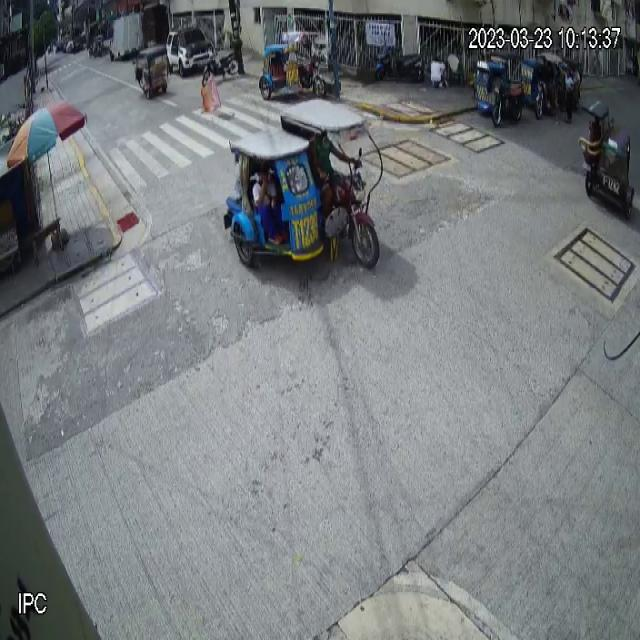Tricycle: (224, 100, 383, 269), (578, 99, 636, 221), (258, 30, 327, 104)
